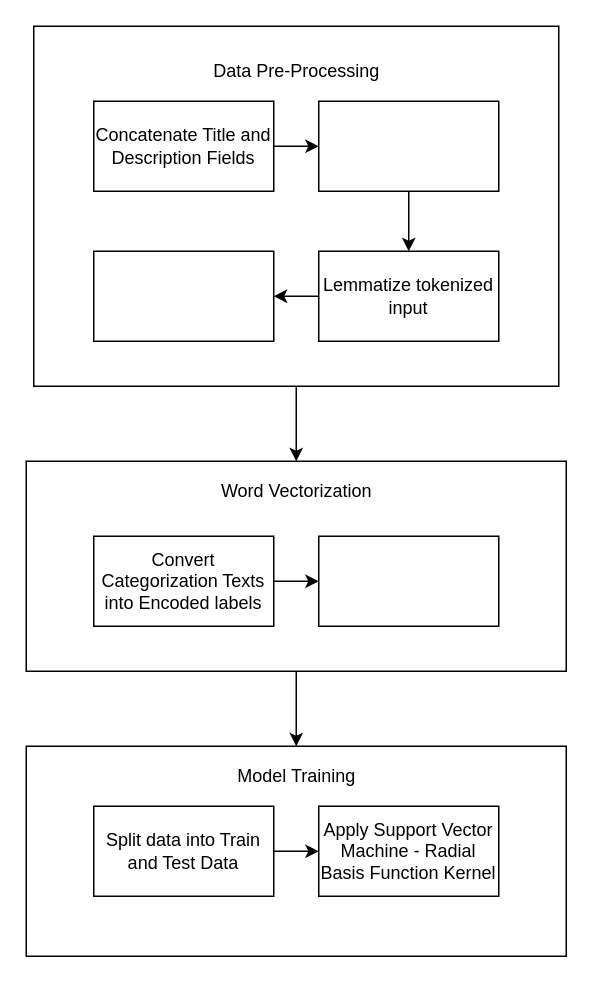
Image size: 593x983. Some labels were removed from this diagram. The centre of each missing label's shape, as x and y in pixels:
"Implement Term Frequency - Inverse Document Frequency" belongs at point (408, 580).
"Remove Stop Words" belongs at point (183, 295).
"Word Tokenize input data" belongs at point (408, 145).
